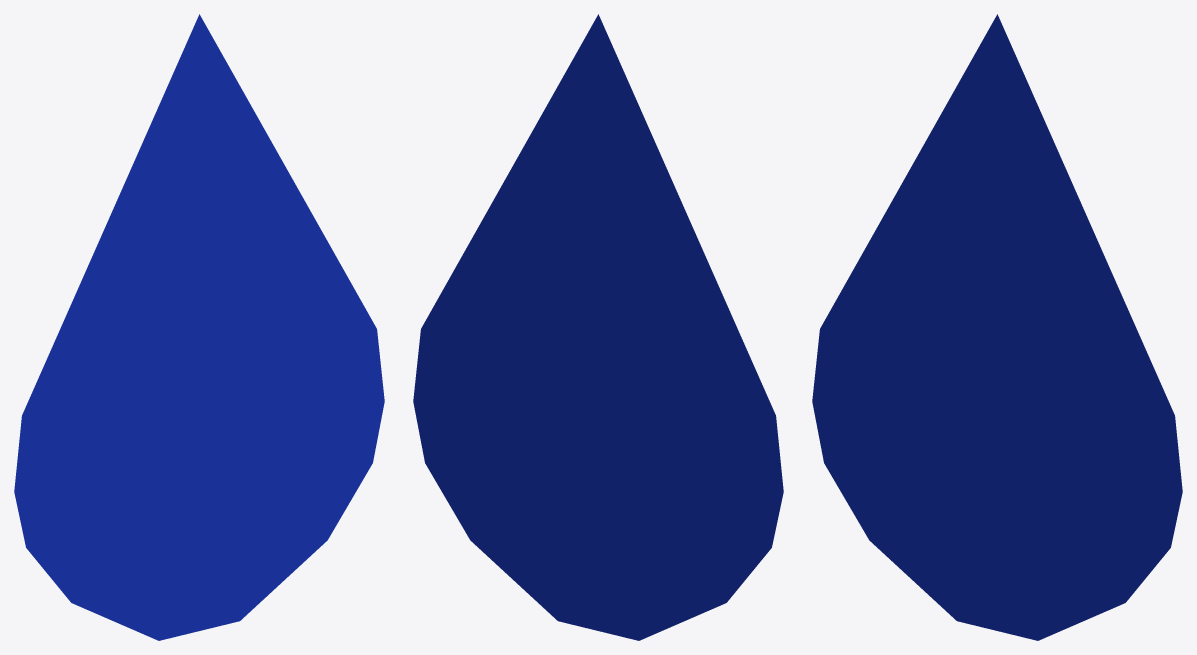
File: Paint_Drop.fbx
3 renders of one model, left to right at view 1: azimuth 30°, elevation 25°; view 2: azimuth 150°, elevation 25°; view 3: azimuth 330°, elevation 25°, orthographic.
Parts seen in each view (by area): view 1: Paint_Drop; view 2: Paint_Drop; view 3: Paint_Drop.
Part boxes in pixels (left/top/right/bottom): Paint_Drop: left=14, top=14, right=384, bottom=640; Paint_Drop: left=413, top=14, right=783, bottom=640; Paint_Drop: left=812, top=14, right=1182, bottom=640.
Bounding box in the file's own units: 163 × 259 × 1.3e-05.
